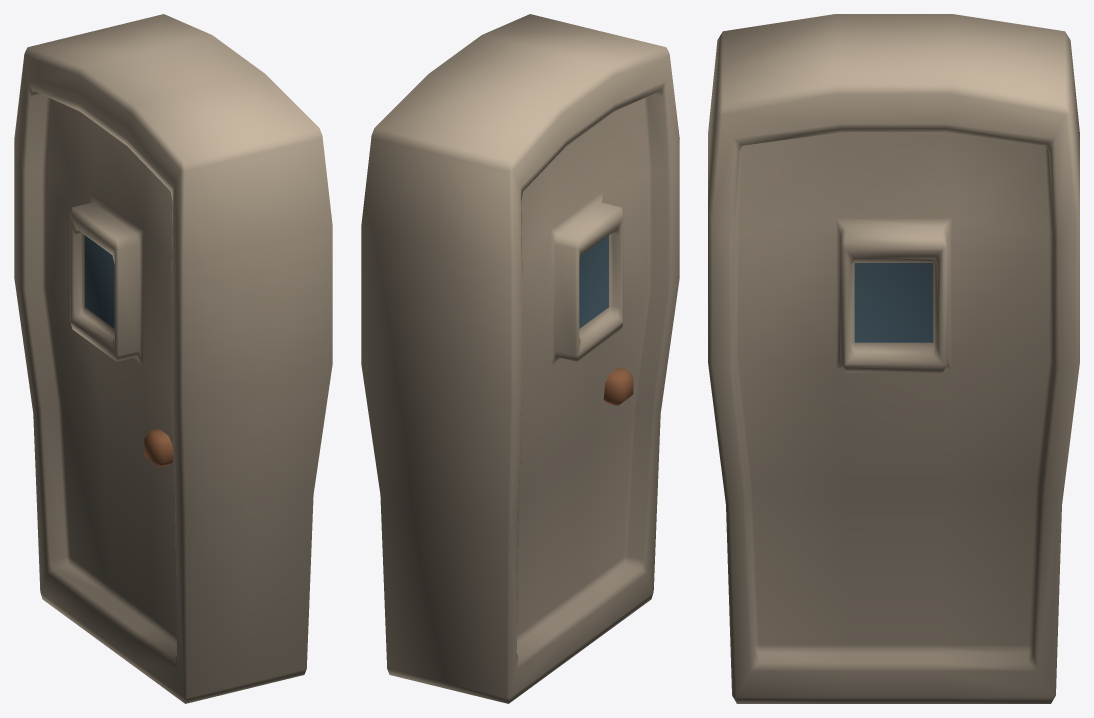
Rendered from Door_LightBrown.fbx.
3 views of the same model, side by side, from view 1: azimuth 30°, elevation 25°; view 2: azimuth 150°, elevation 25°; view 3: azimuth 270°, elevation 25° (orthographic). The views are drawn at different scales.
Visible parts, largest first — view 1: Door_LightBrown; view 2: Door_LightBrown; view 3: Door_LightBrown.
Boxes of the visible parts, left/top/right/bottom form: Door_LightBrown: left=14, top=14, right=332, bottom=703; Door_LightBrown: left=361, top=14, right=679, bottom=703; Door_LightBrown: left=708, top=14, right=1079, bottom=703.
Bounding box in the file's own units: 127 × 425 × 230.
